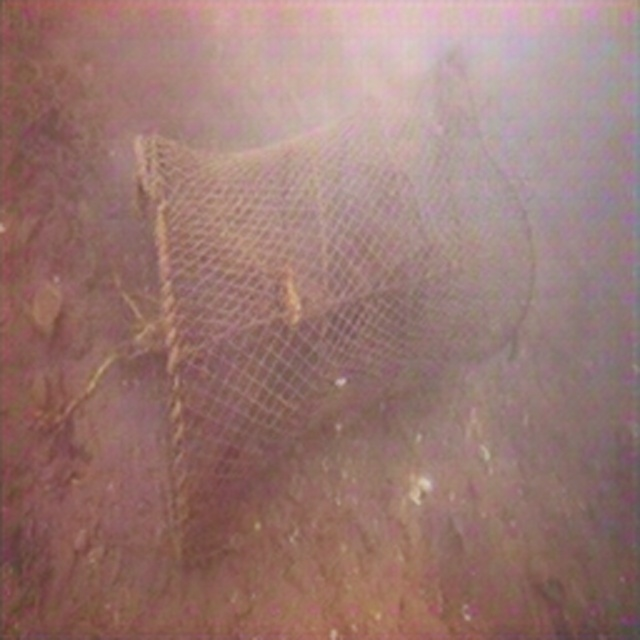mine: (138, 54, 537, 564)
